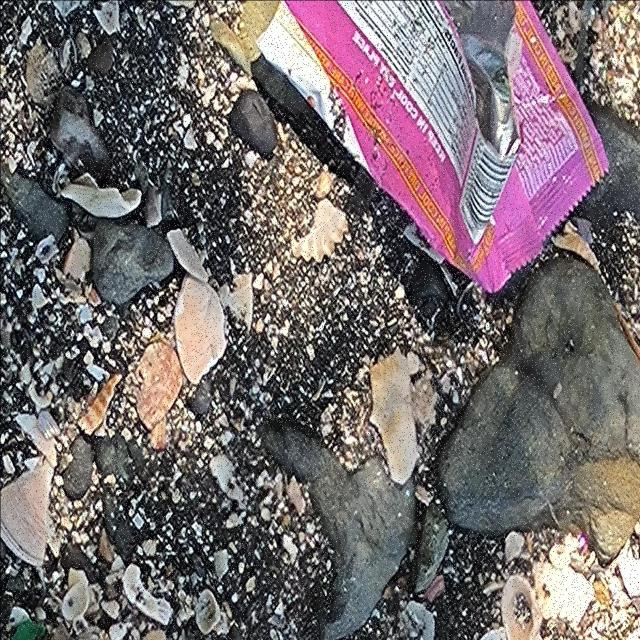plastic_waste: (254, 1, 612, 297)
